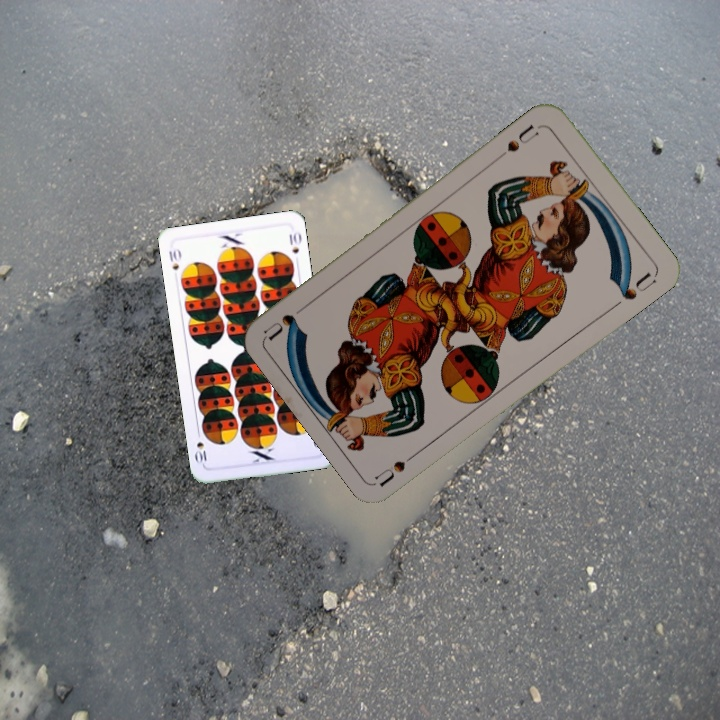S10: (165, 246, 181, 272)
SU: (372, 444, 425, 488), (496, 120, 545, 162)
